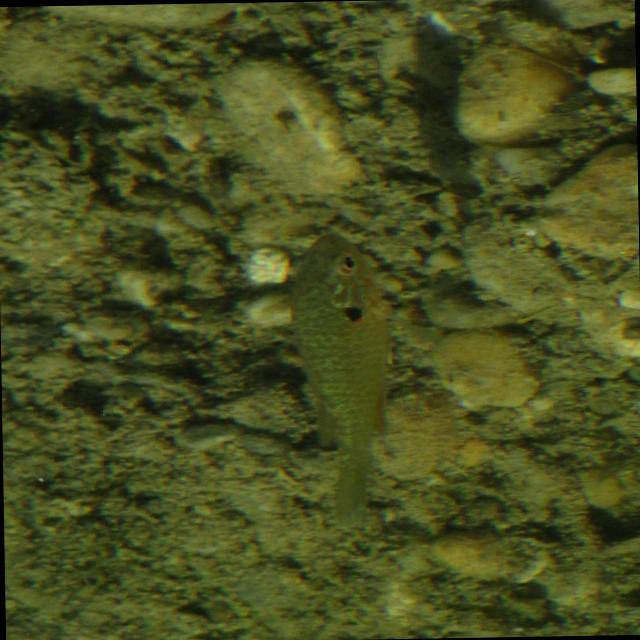Gunes Levregi: (284, 228, 404, 530)
